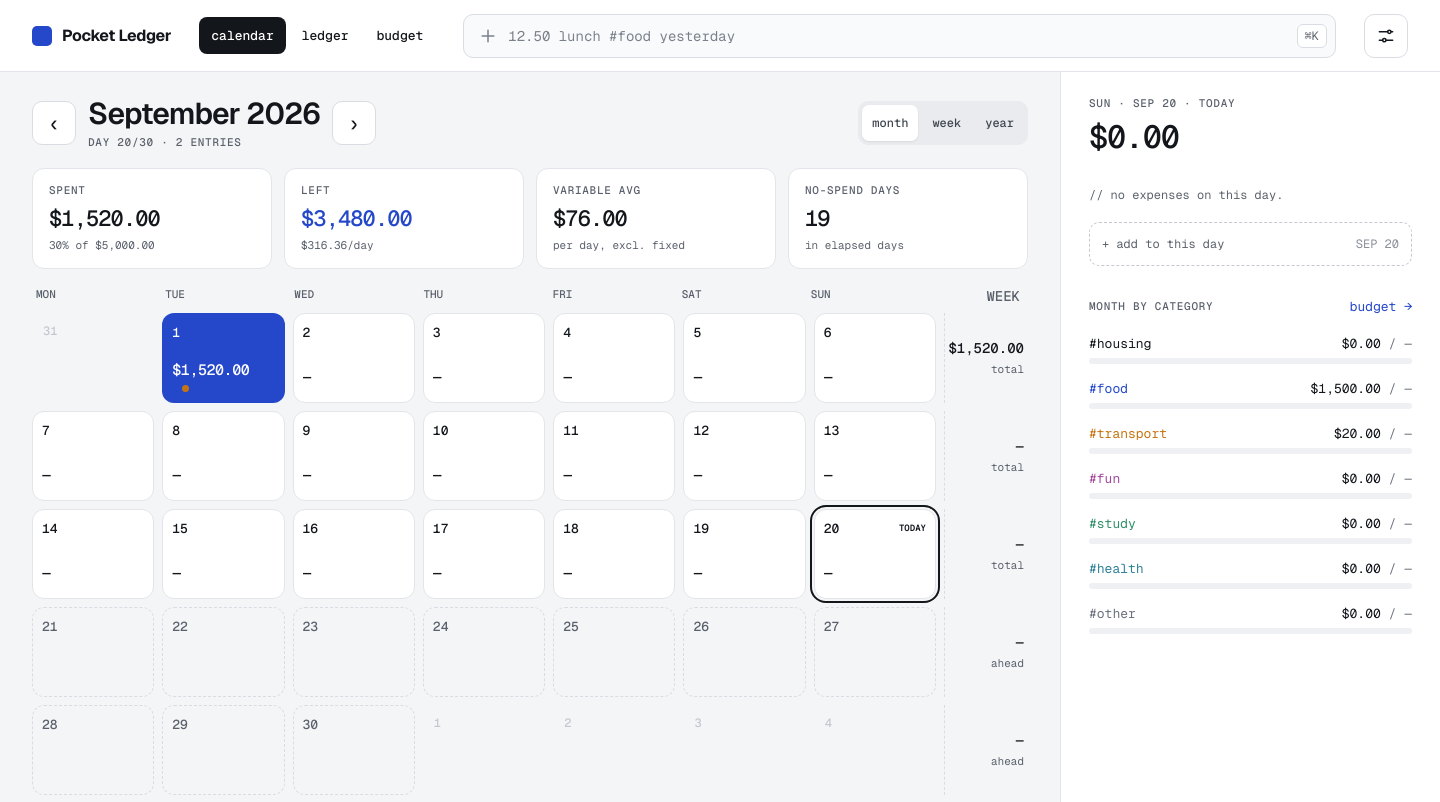
Test: filters the ledger and opens a real budget view
Click the button "ledger" at (325, 36), box [290,17,360,54]
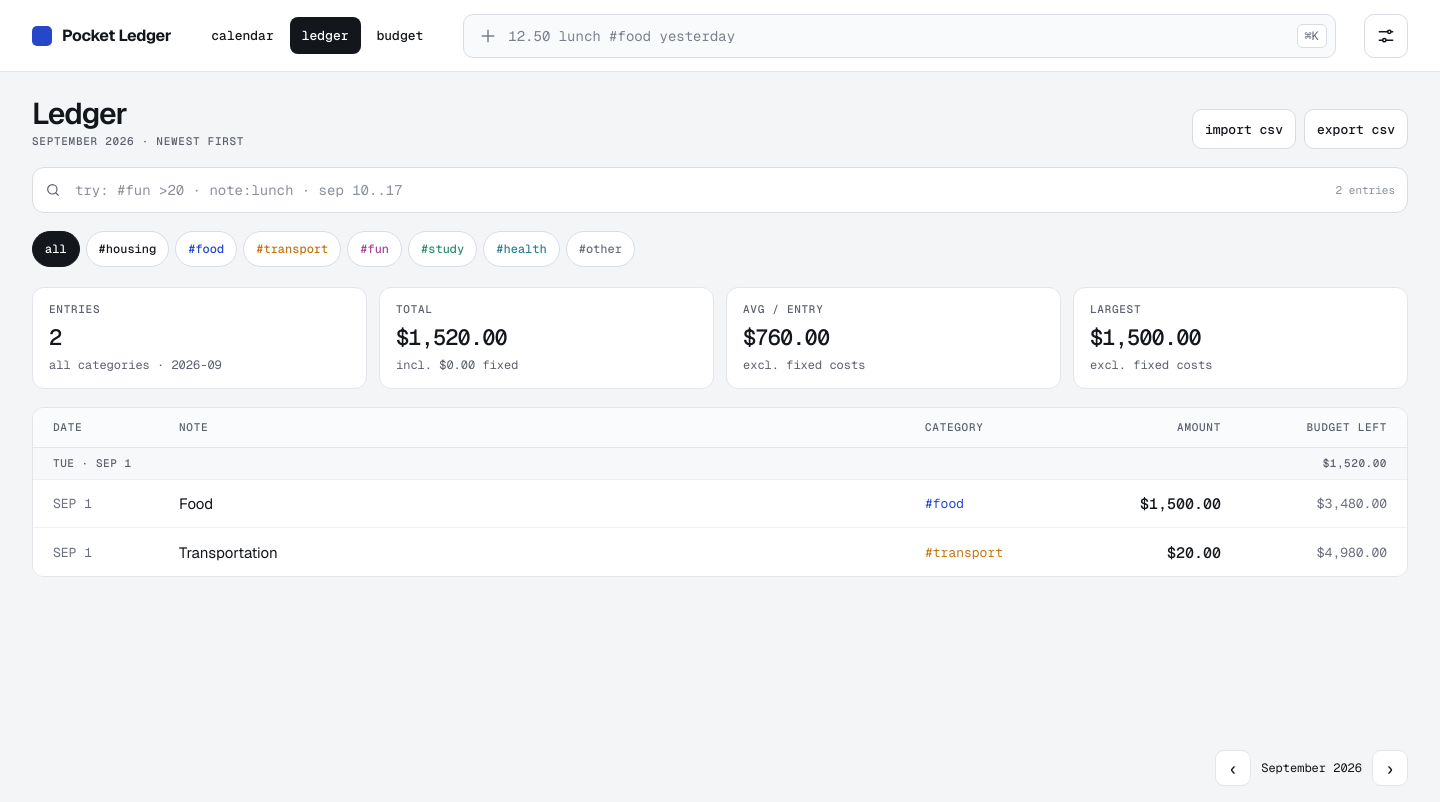
Click the button with aria-label "Filter Food" at (206, 249), box [175,231,237,267]
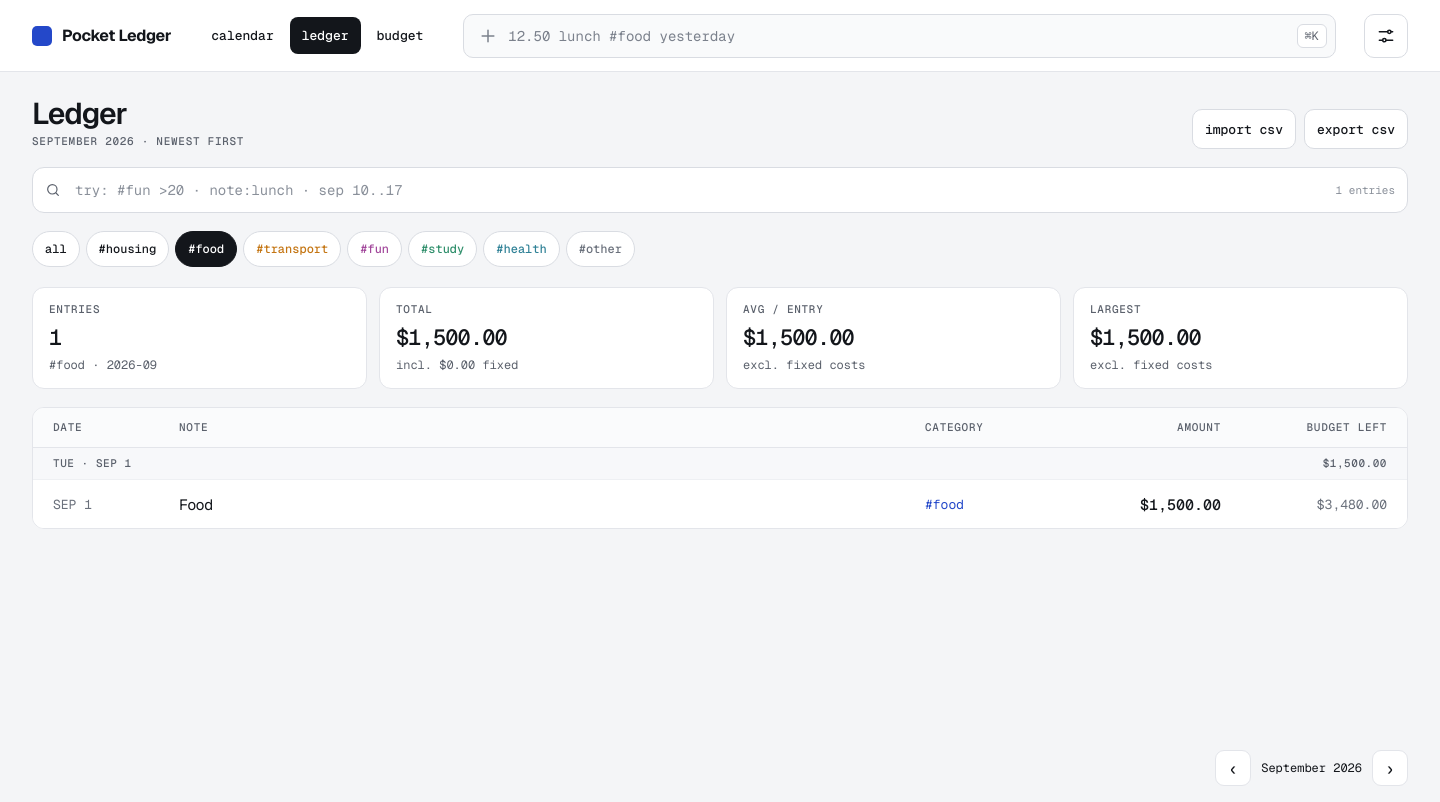
expect the number of buttons "Edit Food expense" is 2: met
Click the button "budget" at (400, 36), box [364,17,435,54]
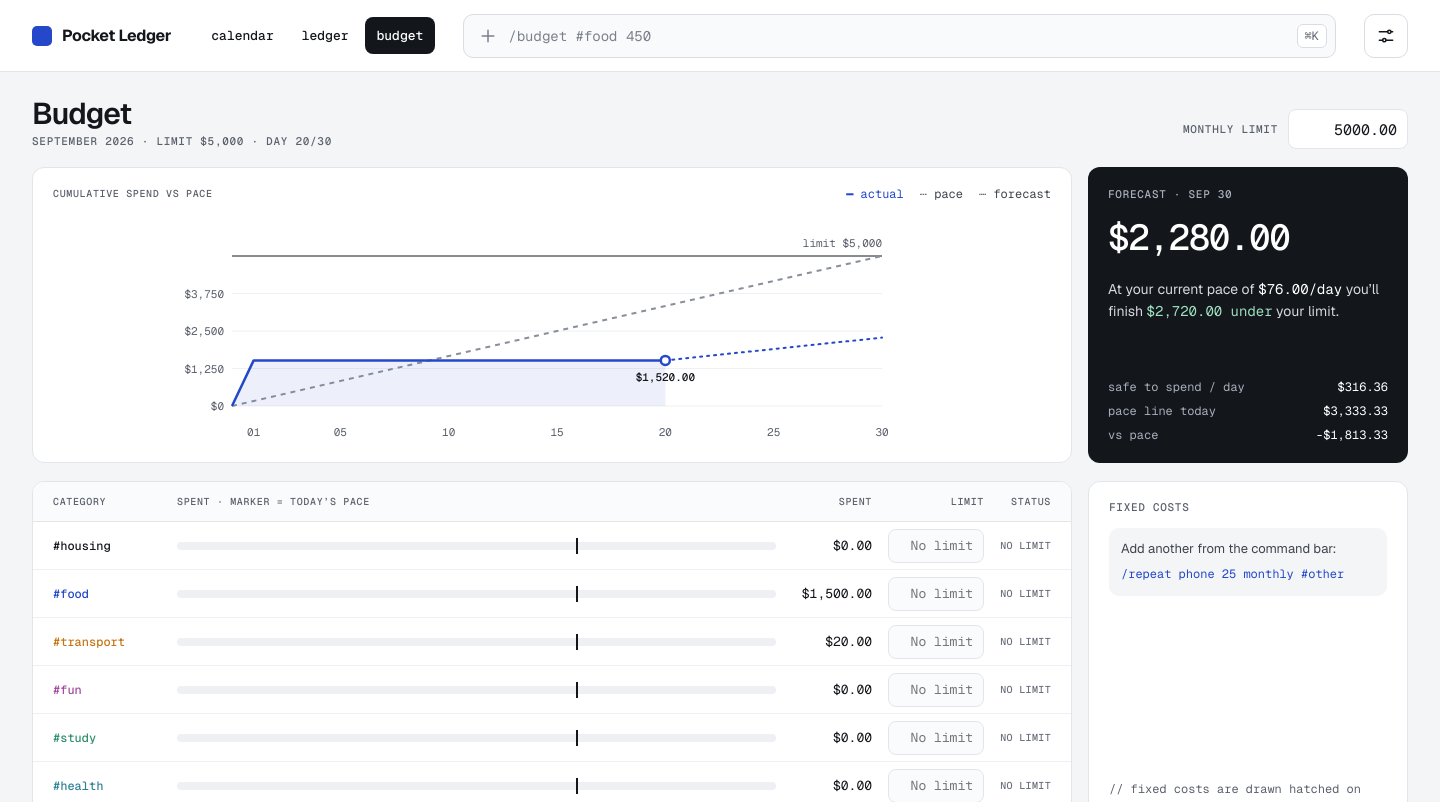
expect the heading "Budget" is shown: met, box [32,94,131,133]
expect the field named "Monthly limit" holds "5000.00": met, box [1288,109,1408,149]
